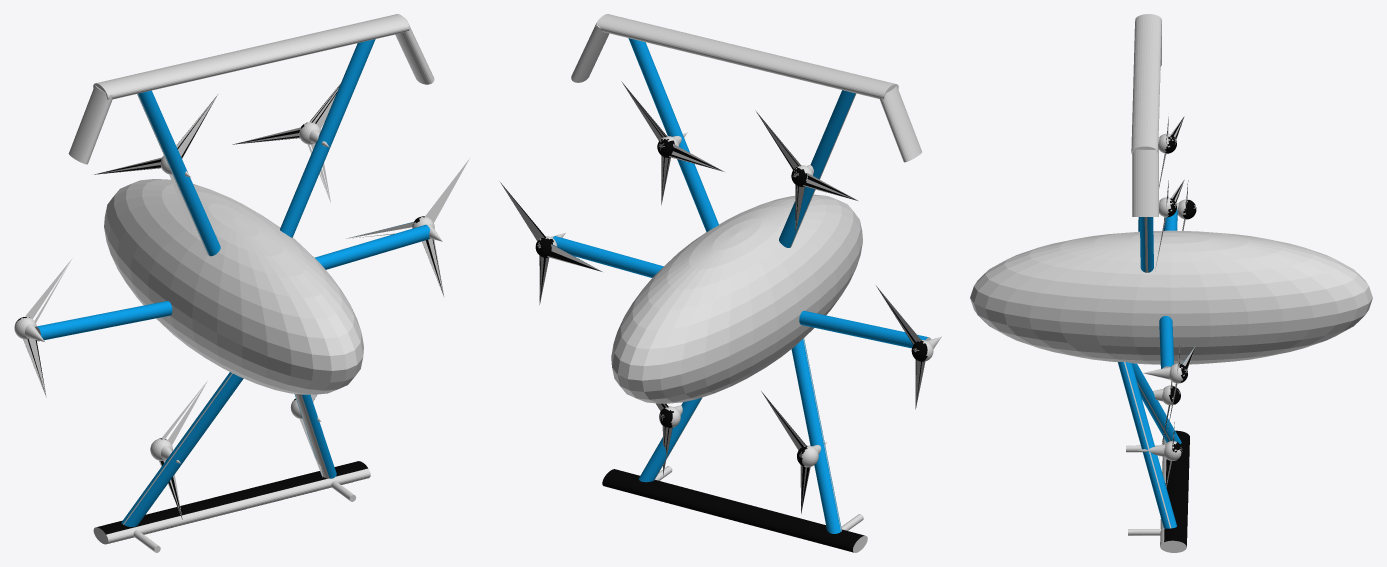
File: Drone.fbx
The picture shows the model from 3 angles, left to right: view 1: azimuth 30°, elevation 25°; view 2: azimuth 150°, elevation 25°; view 3: azimuth 270°, elevation 25°; orthographic projection. The views are drawn at different scales.
Parts seen in each view (by area): view 1: Cylinder; view 2: Cylinder; view 3: Cylinder.
Boxes of the visible parts, x1,y1,x2,y2 form: Cylinder: [14, 14, 469, 552]; Cylinder: [499, 14, 941, 552]; Cylinder: [970, 14, 1372, 552].
Size of the model in its own units: 692 by 693 by 600.
